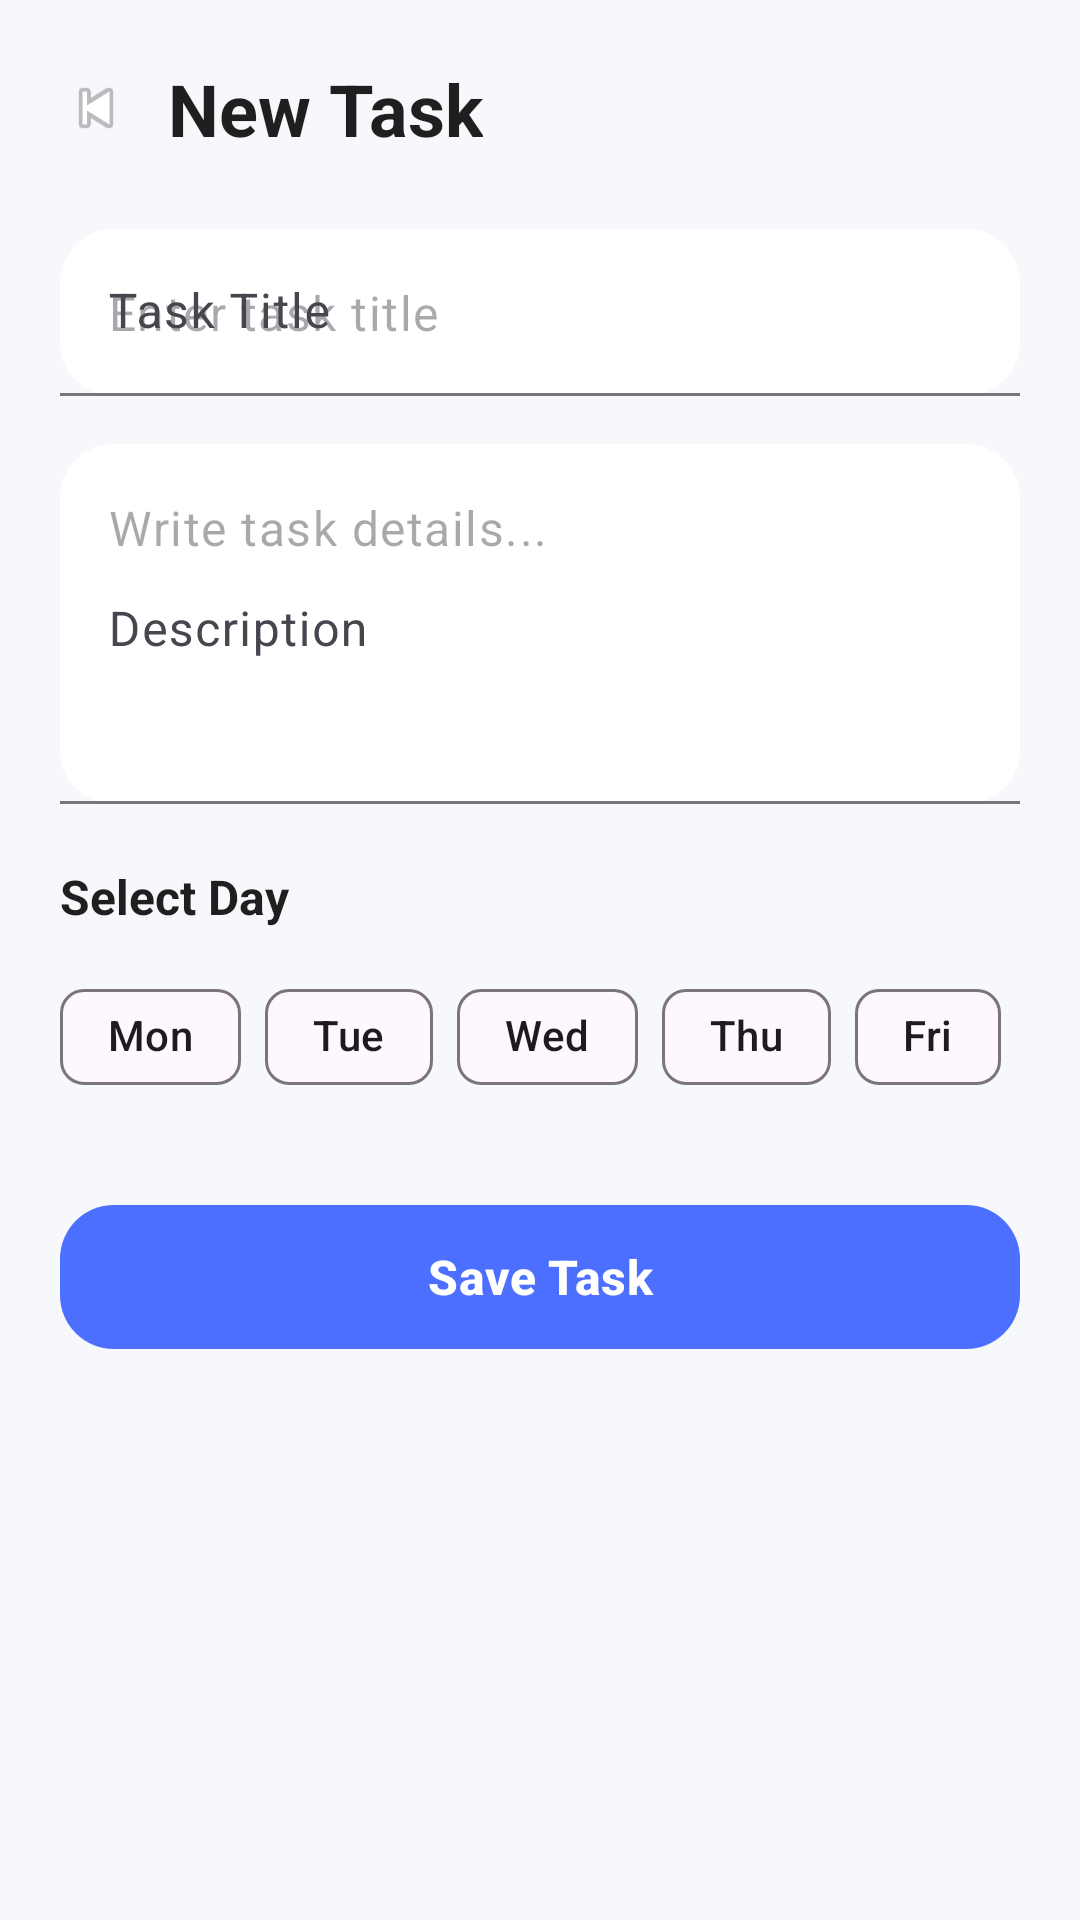

Icon bounding boxes for this 1080 x 1920 phone screenshot, format bbox=[x1, y1, x2, y2]:
previous: bbox=[78, 87, 114, 129]
